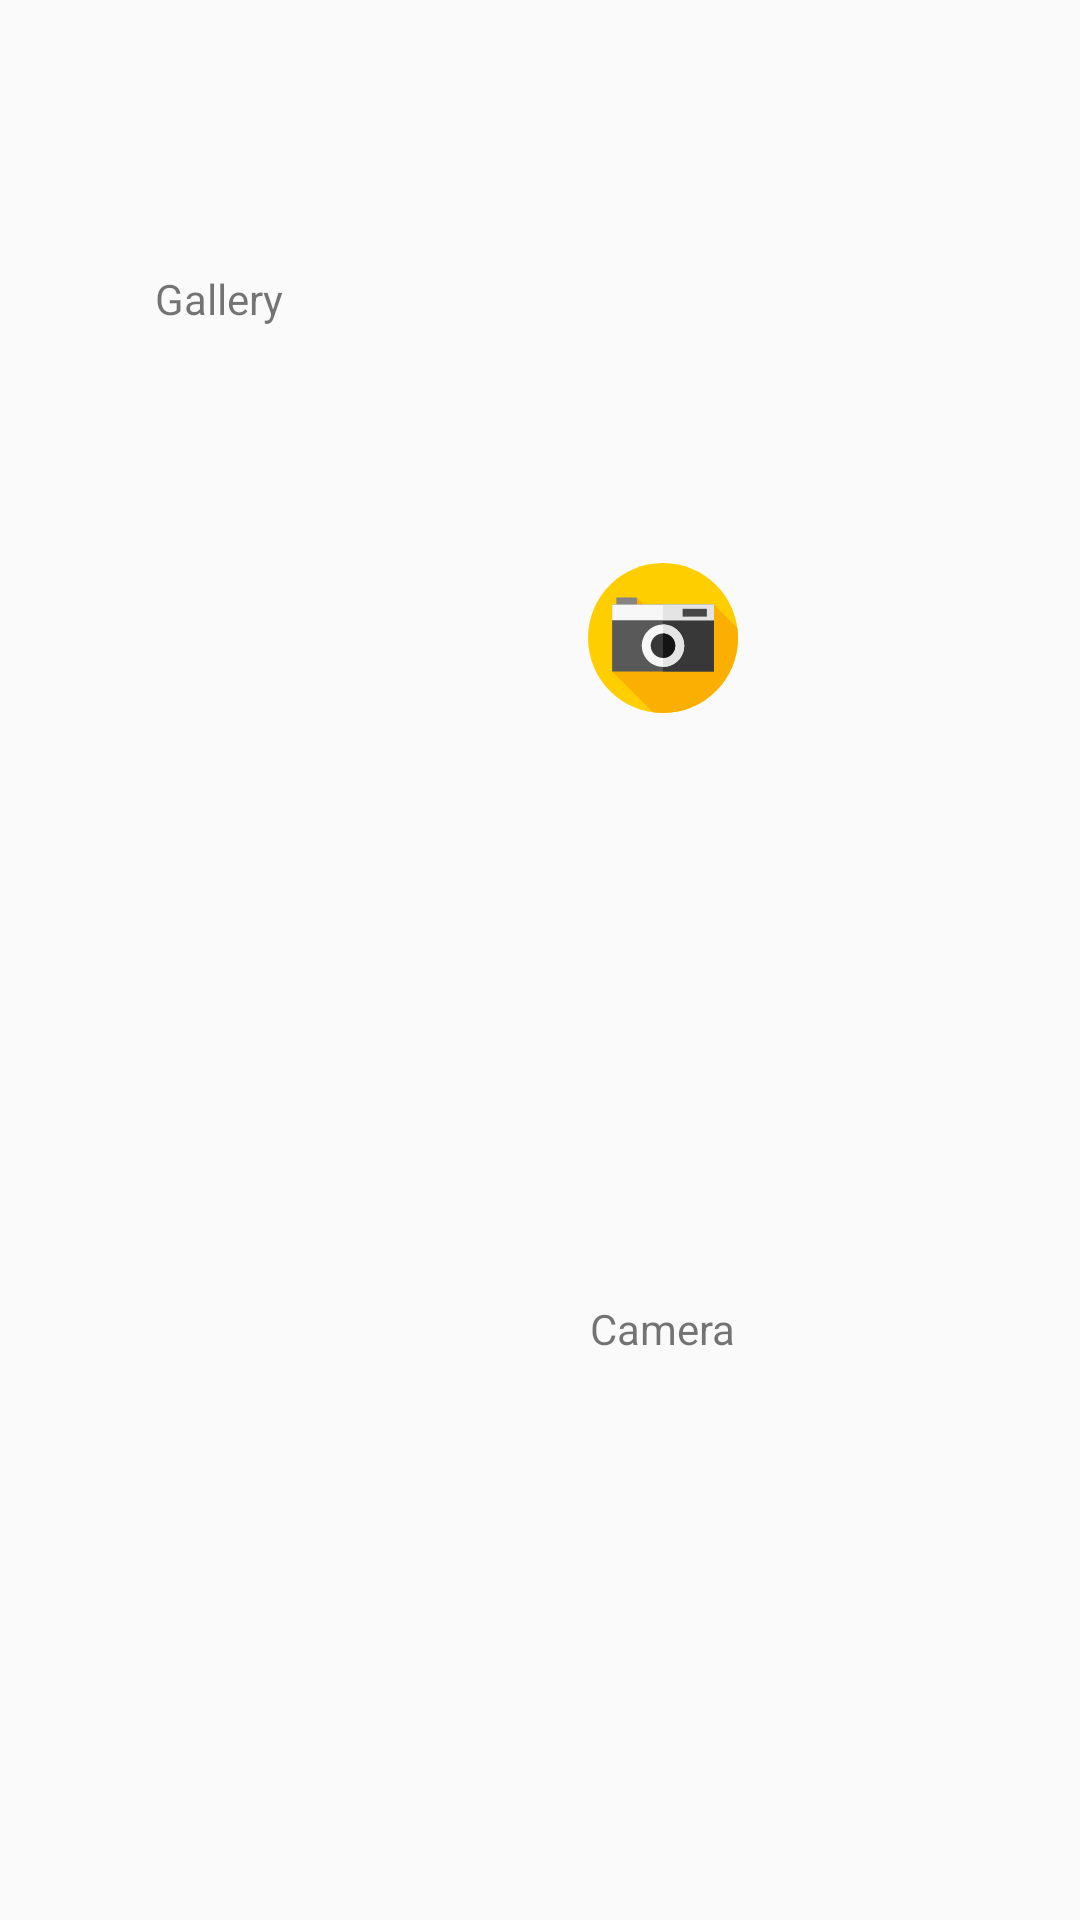

Icon click points for this 1080w x 1920h phone screenshot, format point (x, y):
camera: point (663, 638)
